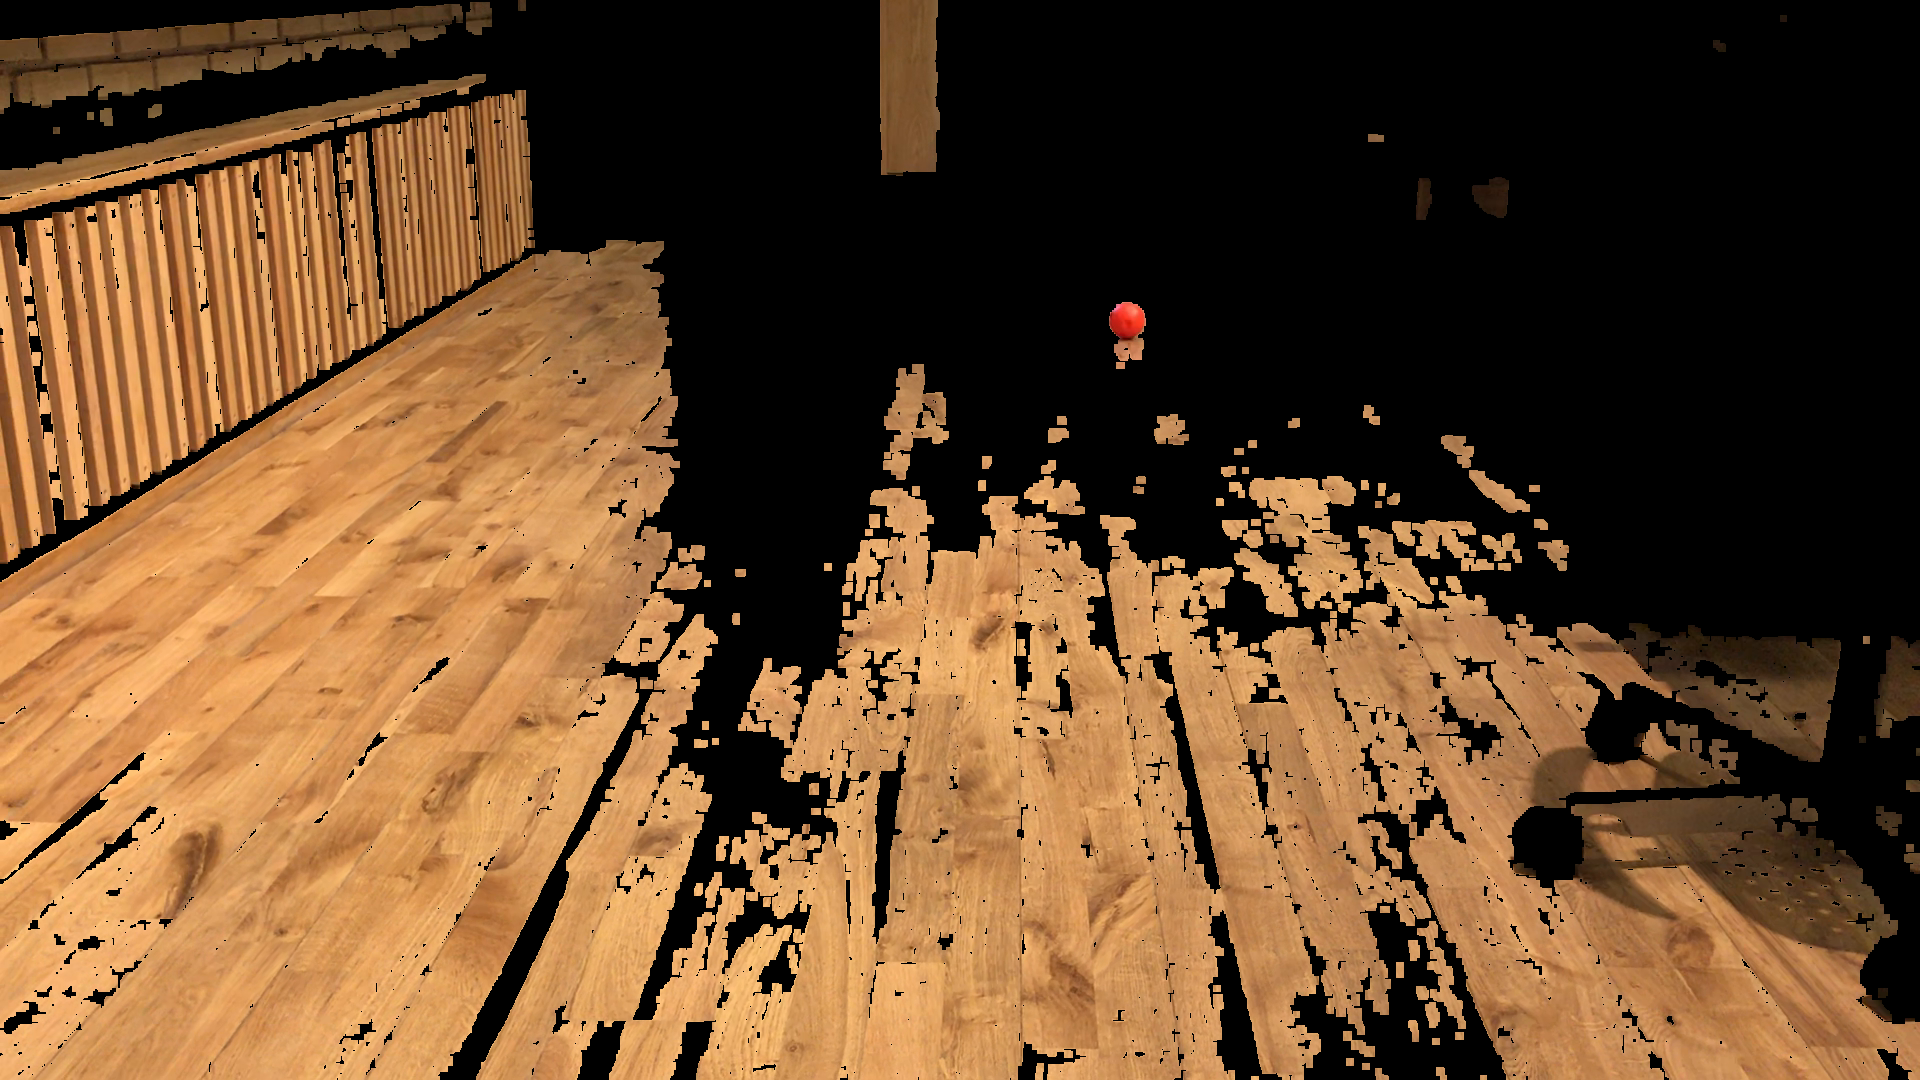Ball: (1106, 301, 1150, 342)
